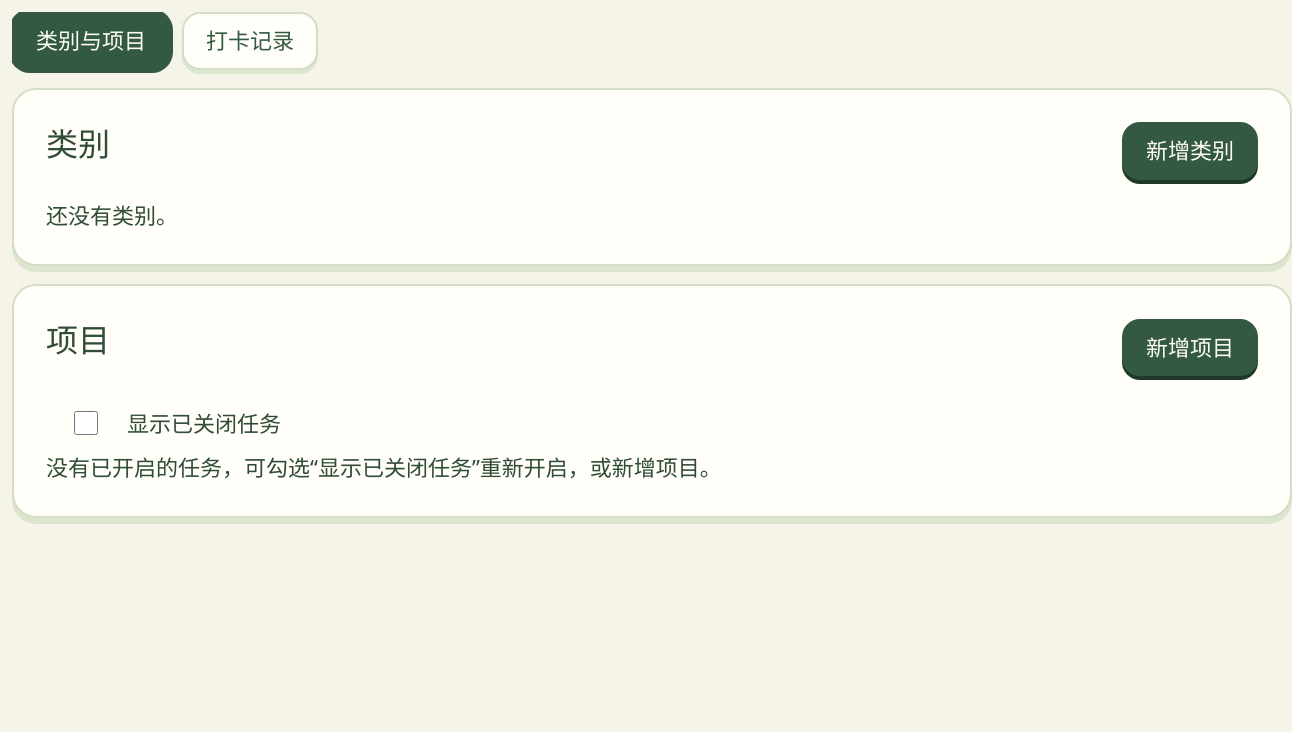
it: 任务开启和关闭 › 默认隐藏关闭任务，显示后可以重新开启并使用服务端返回的版本
The width and height of the screenshot is (1292, 732).
Expected: the text "没有已开启的任务，可勾选“显示已关闭任务”重新开启，或新增项目。" is shown, left=46, top=452, right=722, bottom=482
Expected: the text "阅读" is not shown
Click the checkbox labelled "显示已关闭任务". click: (86, 423)
box: left=58, top=411, right=114, bottom=435
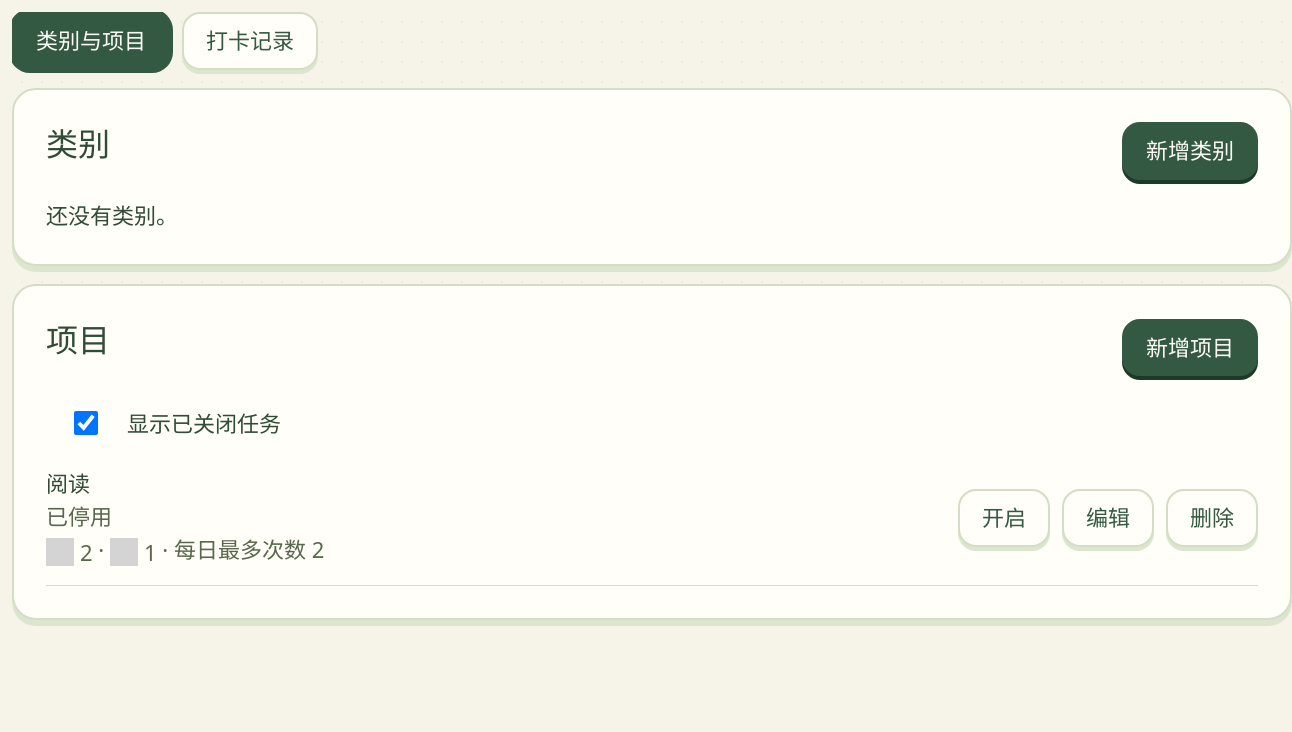
Click the button "开启". click: (1004, 518)
box: left=958, top=489, right=1050, bottom=547
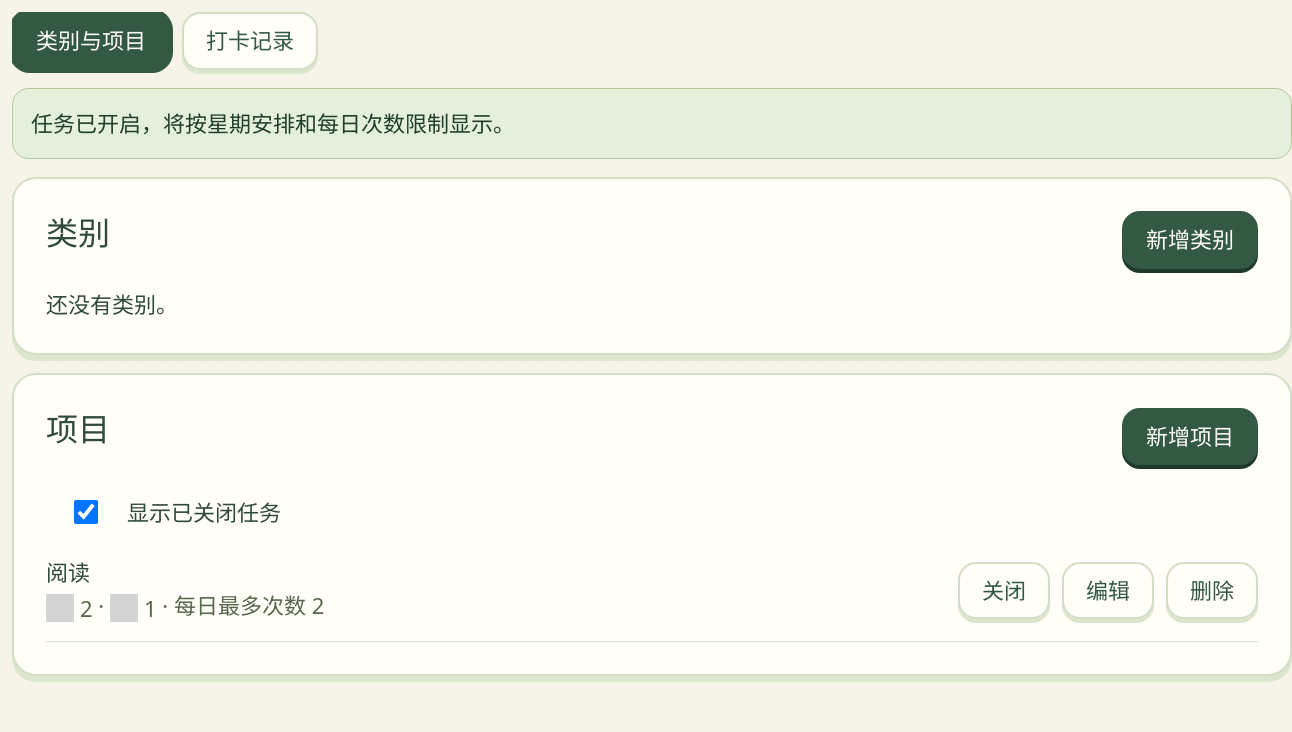
Result: the text "任务已开启，将按星期安排和每日次数限制显示。" is shown at left=12, top=88, right=1291, bottom=159
Click the checkbox labelled "显示已关闭任务". click: (86, 512)
box: left=58, top=500, right=114, bottom=524
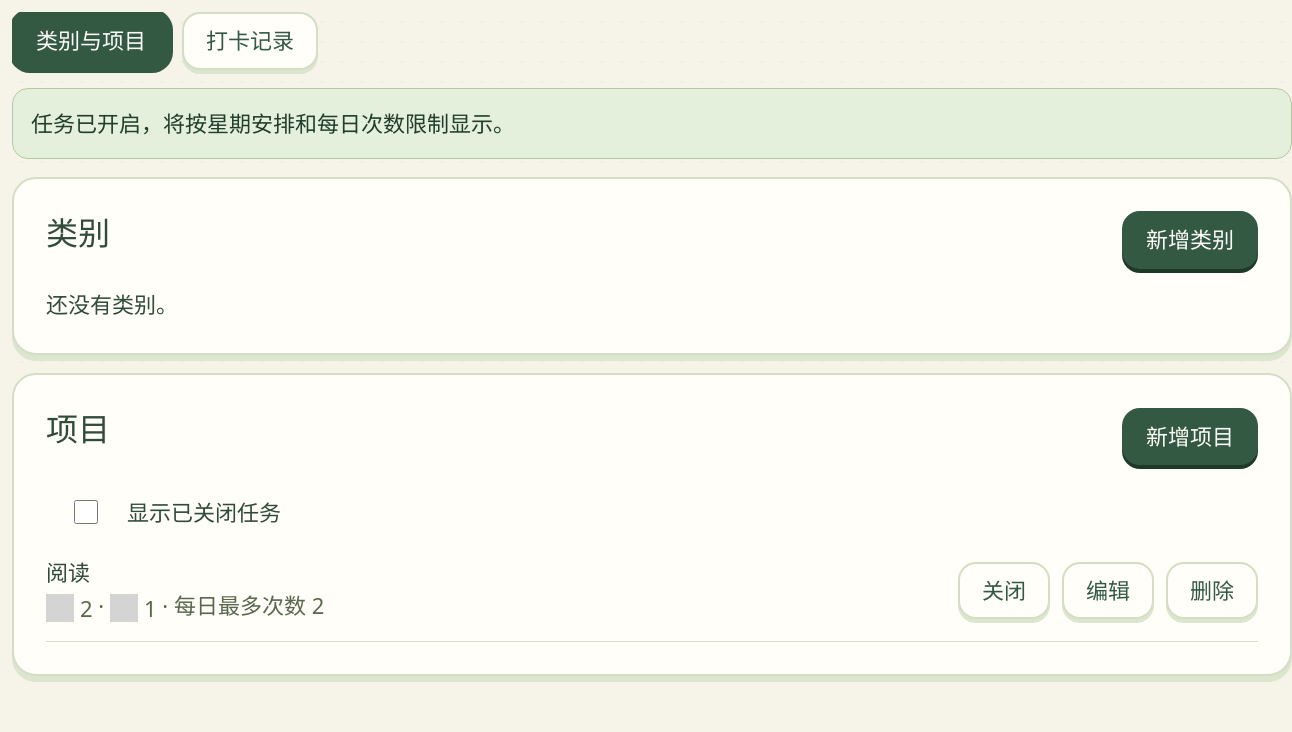
Click the button "关闭". click: (1004, 590)
box: left=958, top=562, right=1050, bottom=619
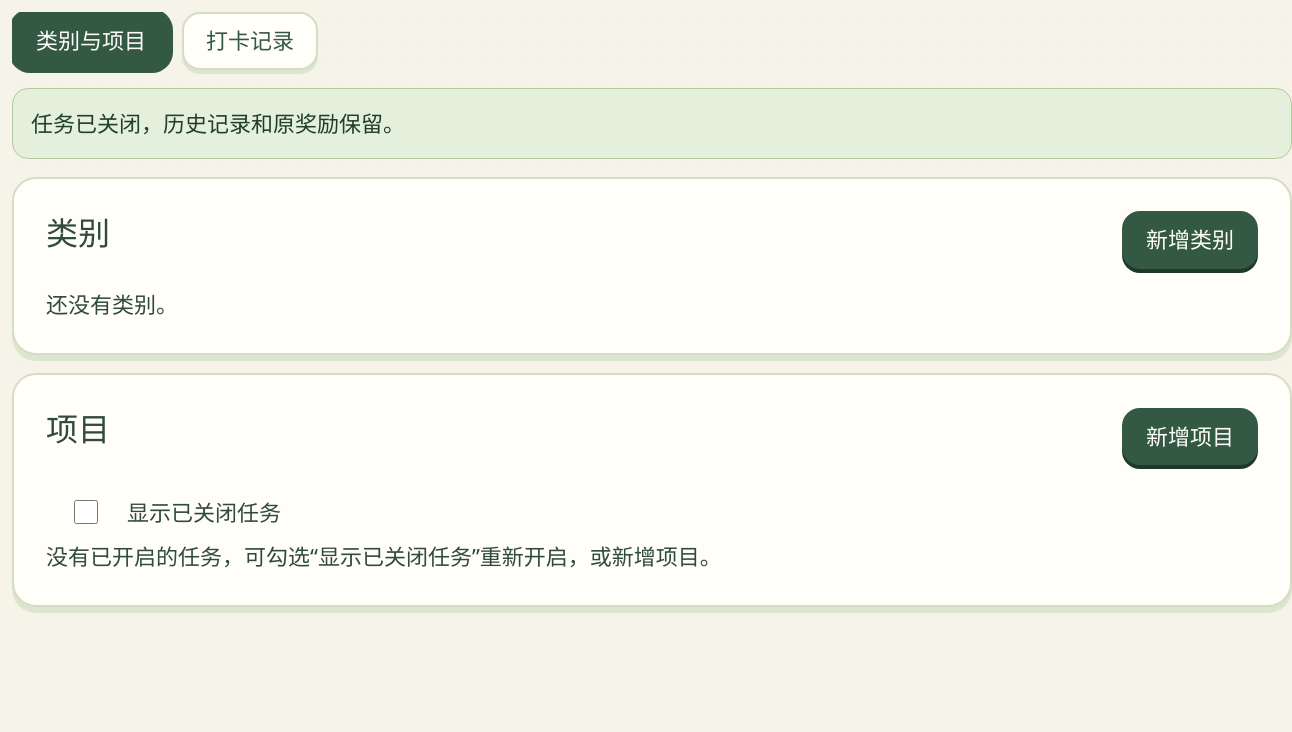
Result: the text "任务已关闭，历史记录和原奖励保留。" is shown at left=12, top=88, right=1291, bottom=159
Result: the text "阅读" is gone
